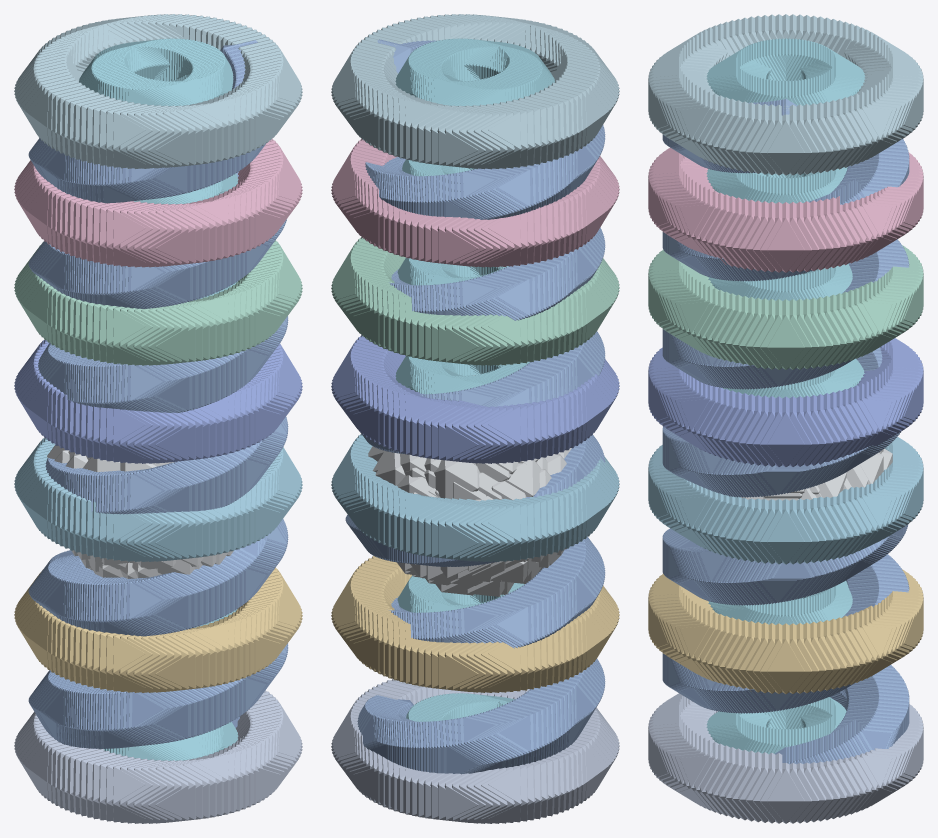
File: NEXAH_Portal_Elevator.glb
The picture shows the model from 3 angles, left to right: view 1: azimuth 30°, elevation 25°; view 2: azimuth 150°, elevation 25°; view 3: azimuth 270°, elevation 25°; orthographic projection.
Parts seen in each view (by area): view 1: Deck_Atom_235, Deck_Galaxy_235, Deck_Planck_235, Deck_Geometry_235, Deck_Solar_235, Deck_City_235, Deck_World_235, Deck_Galaxy_196, Deck_Atom_196, Deck_Solar_196, Deck_Geometry_196, Deck_Planck_196 (+57 smaller); view 2: Portal_Snow_219, Deck_Planck_392, Deck_World_392, Deck_City_392, Deck_Galaxy_392, Deck_Atom_392, Deck_Geometry_392, Deck_Solar_392, Deck_World_431, Deck_Planck_431, Deck_City_431, Portal_Snow_206 (+42 smaller); view 3: Deck_Geometry_0, Deck_City_0, Deck_Solar_0, Deck_Atom_0, Deck_World_0, Deck_Planck_0, Deck_Galaxy_0, Deck_Planck_78, Deck_Planck_549, Deck_Solar_549, Deck_Geometry_549, Deck_Solar_78 (+86 smaller).
Part boxes in pixels (bbox=[...]): Deck_Atom_235: bbox=[111, 202, 147, 265]; Deck_Galaxy_235: bbox=[111, 758, 147, 822]; Deck_Planck_235: bbox=[112, 104, 147, 167]; Deck_Geometry_235: bbox=[111, 306, 145, 363]; Deck_Solar_235: bbox=[112, 634, 145, 691]; Deck_City_235: bbox=[111, 408, 145, 462]; Deck_World_235: bbox=[112, 514, 145, 560]; Deck_Galaxy_196: bbox=[155, 760, 189, 823]; Deck_Atom_196: bbox=[155, 203, 189, 266]; Deck_Solar_196: bbox=[155, 629, 189, 692]; Deck_Geometry_196: bbox=[155, 302, 189, 365]; Deck_Planck_196: bbox=[155, 105, 189, 167]; Portal_Snow_219: bbox=[434, 460, 479, 498]; Deck_Planck_392: bbox=[486, 104, 521, 167]; Deck_World_392: bbox=[488, 499, 521, 560]; Deck_City_392: bbox=[488, 404, 522, 462]; Deck_Galaxy_392: bbox=[488, 766, 522, 822]; Deck_Atom_392: bbox=[488, 214, 522, 265]; Deck_Geometry_392: bbox=[488, 316, 522, 363]; Deck_Solar_392: bbox=[488, 643, 521, 691]; Deck_World_431: bbox=[444, 498, 478, 561]; Deck_Planck_431: bbox=[444, 105, 478, 168]; Deck_City_431: bbox=[444, 400, 478, 463]; Portal_Snow_206: bbox=[504, 460, 541, 496]; Deck_Geometry_0: bbox=[767, 299, 804, 369]; Deck_City_0: bbox=[767, 396, 804, 466]; Deck_Solar_0: bbox=[767, 623, 804, 693]; Deck_Atom_0: bbox=[767, 202, 804, 272]; Deck_World_0: bbox=[767, 499, 804, 564]; Deck_Planck_0: bbox=[767, 105, 804, 175]; Deck_Galaxy_0: bbox=[767, 763, 804, 823]; Deck_Planck_78: bbox=[679, 91, 713, 162]; Deck_Planck_549: bbox=[858, 91, 892, 162]; Deck_Solar_549: bbox=[858, 610, 892, 680]; Deck_Geometry_549: bbox=[858, 286, 892, 356]; Deck_Solar_78: bbox=[679, 610, 713, 679].
Bounding box in the file's own units: 7.7 × 21.7 × 7.7.
